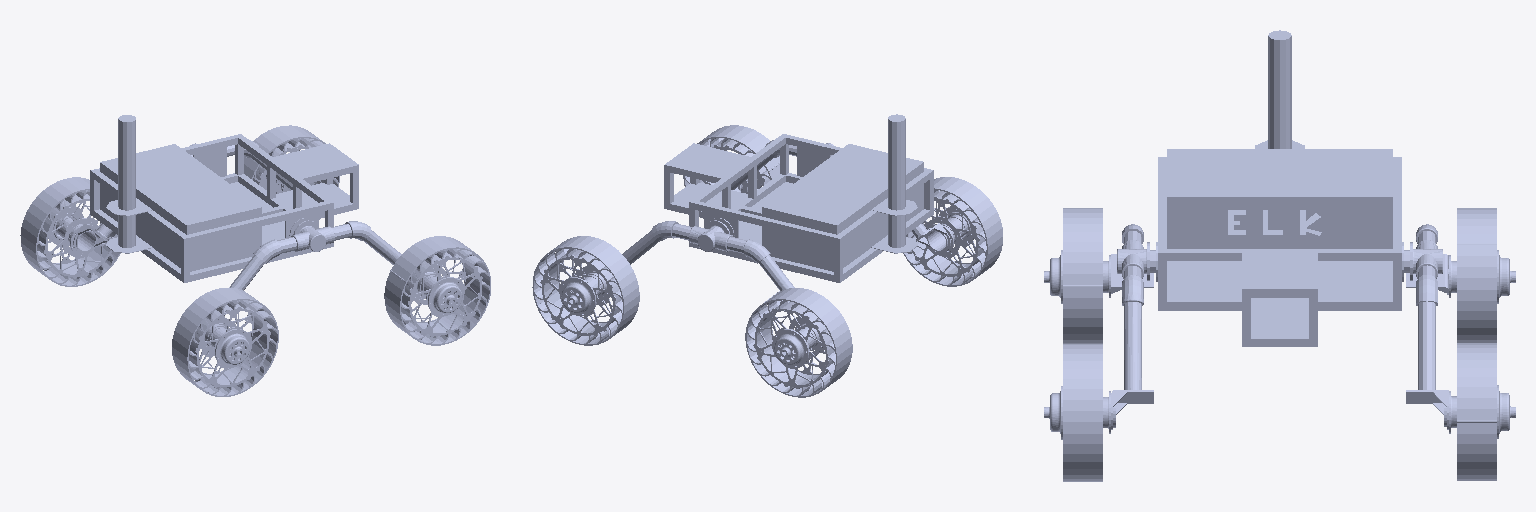
The robot description file, URDF, robot "altyurur_20":
<?xml version="1.0" encoding="utf-8"?>
<!-- This URDF was automatically created by SolidWorks to URDF Exporter! Originally created by [author] ([email redacted]) 
     Commit Version: 1.5.1-0-g916b5db  Build Version: 1.5.7152.31018
     For more information, please see http://wiki.ros.org/sw_urdf_exporter -->
<robot
  name="altyurur_20" xmlns:xacro="http://www.ros.org/wiki/xacro">
  <link
    name="base_link">
    <inertial>
      <origin
        xyz="0.036648 -0.78 -0.1149"
        rpy="0 0 0" />
      <mass
        value="97.6922" />
      <inertia
        ixx="0.16992"
        ixy="-1.2309E-05"
        ixz="0.040329"
        iyy="0.48212"
        iyz="-1.555E-07"
        izz="0.54282" />
    </inertial>
    <visual>
      <origin
        xyz="0 0 0"
        rpy="0 0 0" />
      <geometry>
        <mesh
          filename="package://rover_20_description/meshes/base_link.STL" />
      </geometry>
      <material
        name="">
        <color
          rgba="0.79216 0.81961 0.93333 1" />
      </material>
    </visual>
    <collision>
      <origin
        xyz="0 0 0"
        rpy="0 0 0" />
      <geometry>
        <mesh
          filename="package://rover_20_description/meshes/base_link.STL" />
      </geometry>
    </collision>
  </link>
  <link
    name="left_front_link">
    <inertial>
      <origin
        xyz="-3.0122E-05 0.00014177 0.082453"
        rpy="0 0 0" />
      <mass
        value="51.1573" />
      <inertia
        ixx="0.0096934"
        ixy="-5.9959E-08"
        ixz="-1.119E-06"
        iyy="0.0096827"
        iyz="2.2683E-06"
        izz="0.01783" />
    </inertial>
    <visual>
      <origin
        xyz="0 0 0"
        rpy="0 0 0" />
      <geometry>
        <mesh
          filename="package://rover_20_description/meshes/left_front_linkk.STL" />
      </geometry>
      <material
        name="">
        <color
          rgba="0.79216 0.81961 0.93333 1" />
      </material>
    </visual>
    <collision>
      <origin
        xyz="0 0 0"
        rpy="0 0 0" />
      <geometry>
        <mesh
          filename="package://rover_20_description/meshes/left_front_linkk.STL" />
      </geometry>
    </collision>
  </link>
  <joint
    name="left_front_joint"
    type="fixed">
    <origin
      xyz="0.45031 -0.2596 -0.31064"
      rpy="1.5708 1.2698 0" />
    <parent
      link="base_link" />
    <child
      link="left_front_link" />
    <axis
      xyz="0 0 -1" />
  </joint>
  <link
    name="right_front_link">
    <inertial>
      <origin
        xyz="-2.8756E-05 0.00014342 0.07551"
        rpy="0 0 0" />
      <mass
        value="51.1573" />
      <inertia
        ixx="0.0096937"
        ixy="2.8004E-07"
        ixz="-1.119E-06"
        iyy="0.0096825"
        iyz="2.2683E-06"
        izz="0.01783" />
    </inertial>
    <visual>
      <origin
        xyz="0 0 0"
        rpy="0 0 0" />
      <geometry>
        <mesh
          filename="package://rover_20_description/meshes/right_front_link.STL" />
      </geometry>
      <material
        name="">
        <color
          rgba="0.79216 0.81961 0.93333 1" />
      </material>
    </visual>
    <collision>
      <origin
        xyz="0 0 0"
        rpy="0 0 0" />
      <geometry>
        <mesh
          filename="package://rover_20_description/meshes/right_front_link.STL" />
      </geometry>
    </collision>
  </link>
  <joint
    name="right_front_joint"
    type="fixed">
    <origin
      xyz="0.45155 -1.1425 -0.31113"
      rpy="1.5708 -1.0421 0" />
    <parent
      link="base_link" />
    <child
      link="right_front_link" />
    <axis
      xyz="0 0 -1" />
  </joint>
  <link
    name="right_rear_link">
    <inertial>
      <origin
        xyz="-3.0122E-05 0.00014177 0.07551"
        rpy="0 0 0" />
      <mass
        value="51.1573" />
      <inertia
        ixx="0.0096934"
        ixy="-5.9909E-08"
        ixz="-1.119E-06"
        iyy="0.0096827"
        iyz="2.2683E-06"
        izz="0.01783" />
    </inertial>
    <visual>
      <origin
        xyz="0 0 0"
        rpy="0 0 0" />
      <geometry>
        <mesh
          filename="package://rover_20_description/meshes/right_rear_link.STL" />
      </geometry>
      <material
        name="">
        <color
          rgba="0.79216 0.81961 0.93333 1" />
      </material>
    </visual>
    <collision>
      <origin
        xyz="0 0 0"
        rpy="0 0 0" />
      <geometry>
        <mesh
          filename="package://rover_20_description/meshes/right_rear_link.STL" />
      </geometry>
    </collision>
  </link>
  <joint
    name="right_rear_joint"
    type="fixed">
    <origin
      xyz="-0.25574 -1.1425 -0.31006"
      rpy="1.5708 1.2698 0" />
    <parent
      link="base_link" />
    <child
      link="right_rear_link" />
    <axis
      xyz="0 0 -1" />
  </joint>
  <link
    name="left_rear_link">
    <inertial>
      <origin
        xyz="-2.9287E-05 0.00014265 0.082453"
        rpy="0 0 0" />
      <mass
        value="51.1573" />
      <inertia
        ixx="0.0096936"
        ixy="1.0425E-07"
        ixz="-1.119E-06"
        iyy="0.0096826"
        iyz="2.2683E-06"
        izz="0.01783" />
    </inertial>
    <visual>
      <origin
        xyz="0 0 0"
        rpy="0 0 0" />
      <geometry>
        <mesh
          filename="package://rover_20_description/meshes/left_rear_link.STL" />
      </geometry>
      <material
        name="">
        <color
          rgba="0.79216 0.81961 0.93333 1" />
      </material>
    </visual>
    <collision>
      <origin
        xyz="0 0 0"
        rpy="0 0 0" />
      <geometry>
        <mesh
          filename="package://rover_20_description/meshes/left_rear_link.STL" />
      </geometry>
    </collision>
  </link>
  <joint
    name="left_rear_joint"
    type="fixed">
    <origin
      xyz="-0.25698 -0.2596 -0.31054"
      rpy="1.5708 0.64514 0" />
    <parent
      link="base_link" />
    <child
      link="left_rear_link" />
    <axis
      xyz="0 0 -1" />
  </joint>
<gazebo reference="right_rear_link">
<material>Gazebo/Black</material>
</gazebo>  
<gazebo reference="left_rear_link">
<material>Gazebo/Black</material>
</gazebo>
<gazebo reference="right_front_link">
<material>Gazebo/Black</material>
</gazebo>  
<gazebo reference="left_front_link">
<material>Gazebo/Black</material>
</gazebo>   
</robot>

--- Facts derived from the render (not from the file) ---
The picture shows the robot from 3 angles, left to right: view 1: azimuth 30°, elevation 25°; view 2: azimuth 150°, elevation 25°; view 3: azimuth 270°, elevation 25°; orthographic projection.
Robot: altyurur_20 — 5 links, 4 joints (4 fixed); root link base_link; default pose: every joint at zero.
Links seen in each view (by area): view 1: base_link, right_rear_link, right_front_link, left_rear_link, left_front_link; view 2: base_link, left_front_link, left_rear_link, right_rear_link, right_front_link; view 3: base_link, right_front_link, left_front_link, right_rear_link, left_rear_link.
Boxes of the visible links, <box> form: base_link: <box>73,115,401,315</box>; right_rear_link: <box>172,287,278,396</box>; right_front_link: <box>384,236,490,345</box>; left_rear_link: <box>20,177,120,286</box>; left_front_link: <box>244,125,339,219</box>; base_link: <box>622,114,950,317</box>; left_front_link: <box>532,236,639,345</box>; left_rear_link: <box>745,288,852,397</box>; right_rear_link: <box>903,177,1002,286</box>; right_front_link: <box>683,125,779,218</box>; base_link: <box>1111,30,1448,429</box>; right_front_link: <box>1044,344,1115,481</box>; left_front_link: <box>1444,343,1515,480</box>; right_rear_link: <box>1044,208,1110,343</box>; left_rear_link: <box>1448,208,1515,342</box>.
Bounding box of the posed robot: 1.01 × 1.04 × 0.7071 m (x, y, z).
Meshes: 5 distinct files referenced, 5 mesh visuals loaded (5 binary STL).
